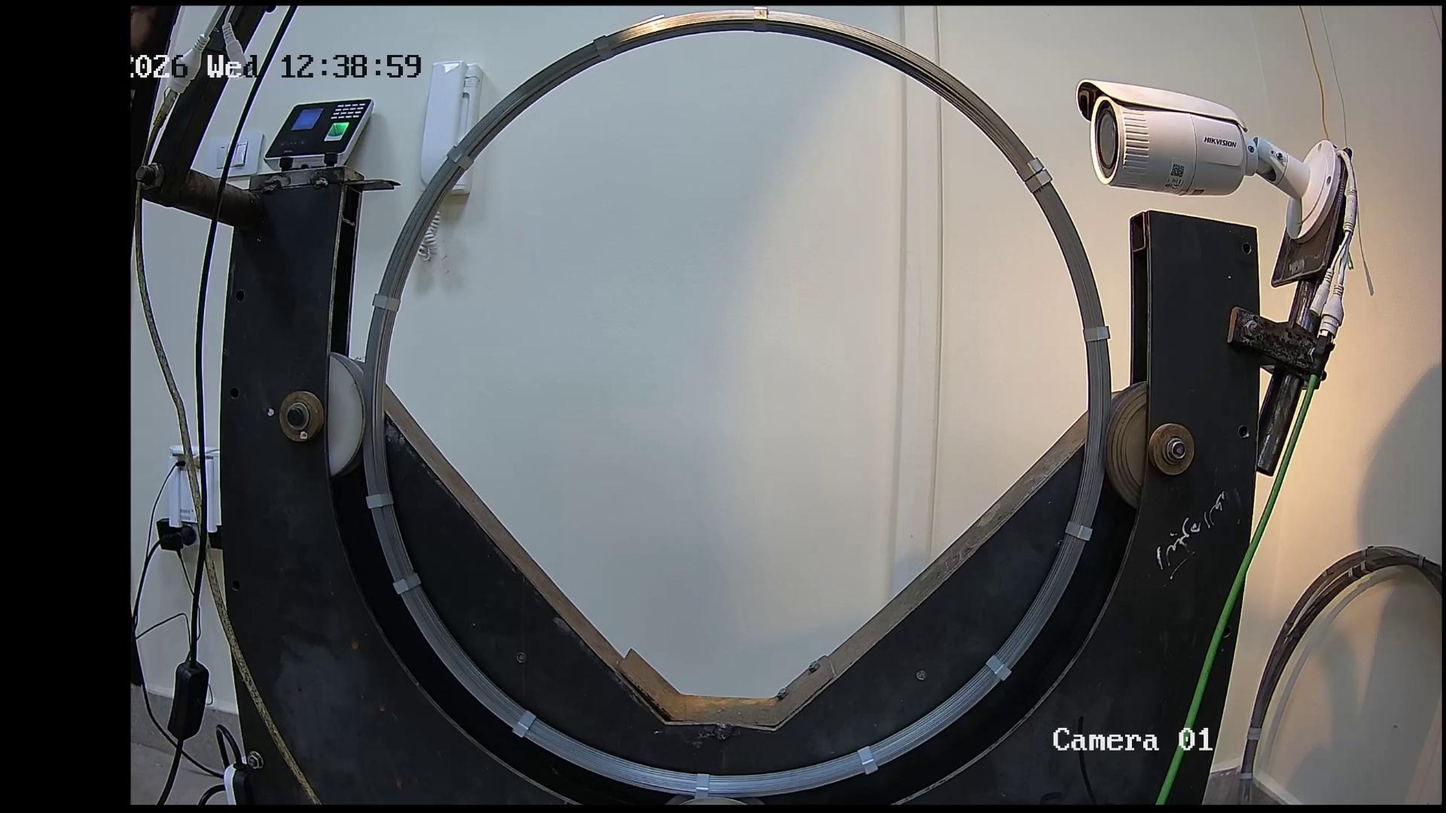clamp: (445, 145, 474, 171), (1017, 156, 1045, 182), (1025, 168, 1054, 193), (986, 654, 1012, 681), (512, 710, 536, 738), (857, 745, 878, 775), (393, 573, 421, 595), (593, 34, 615, 61), (372, 293, 400, 313), (1065, 521, 1093, 541), (1081, 325, 1111, 342), (365, 492, 394, 509), (695, 772, 710, 800), (753, 6, 768, 33)
